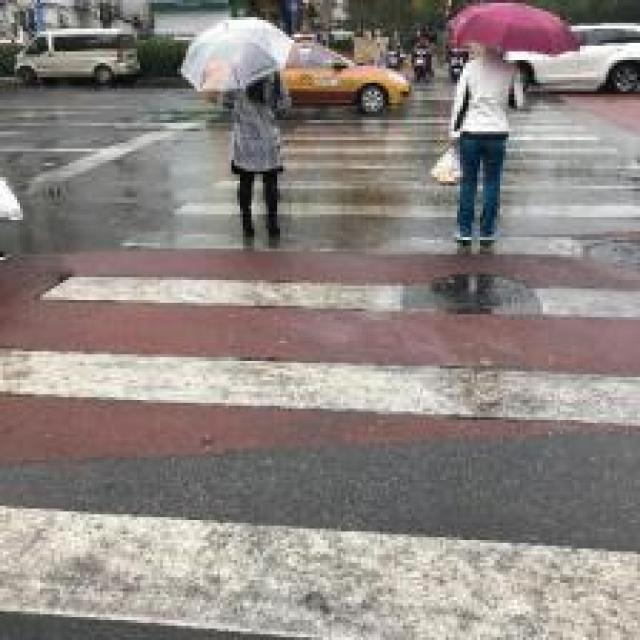zebra: (1, 71, 640, 640)
